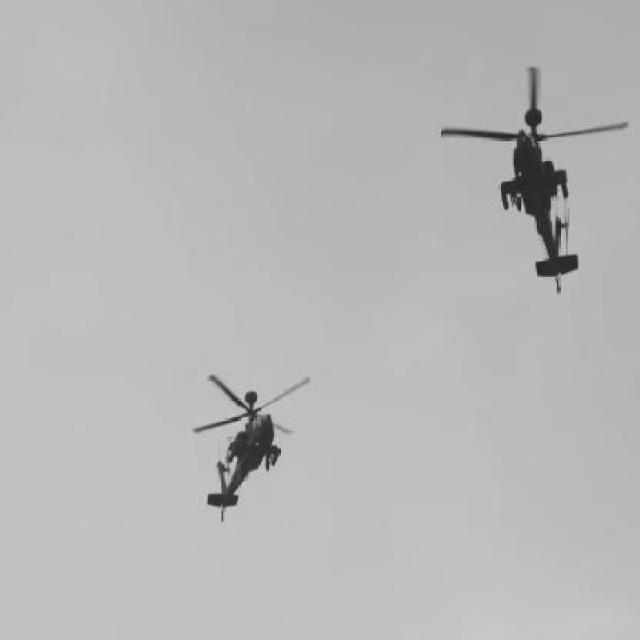Helicopter: (441, 68, 630, 297), (194, 374, 311, 523)
